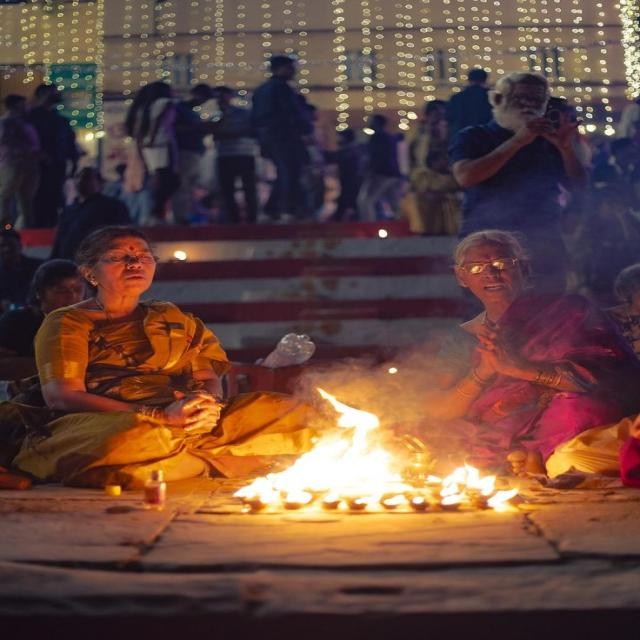fire: (236, 386, 519, 510)
